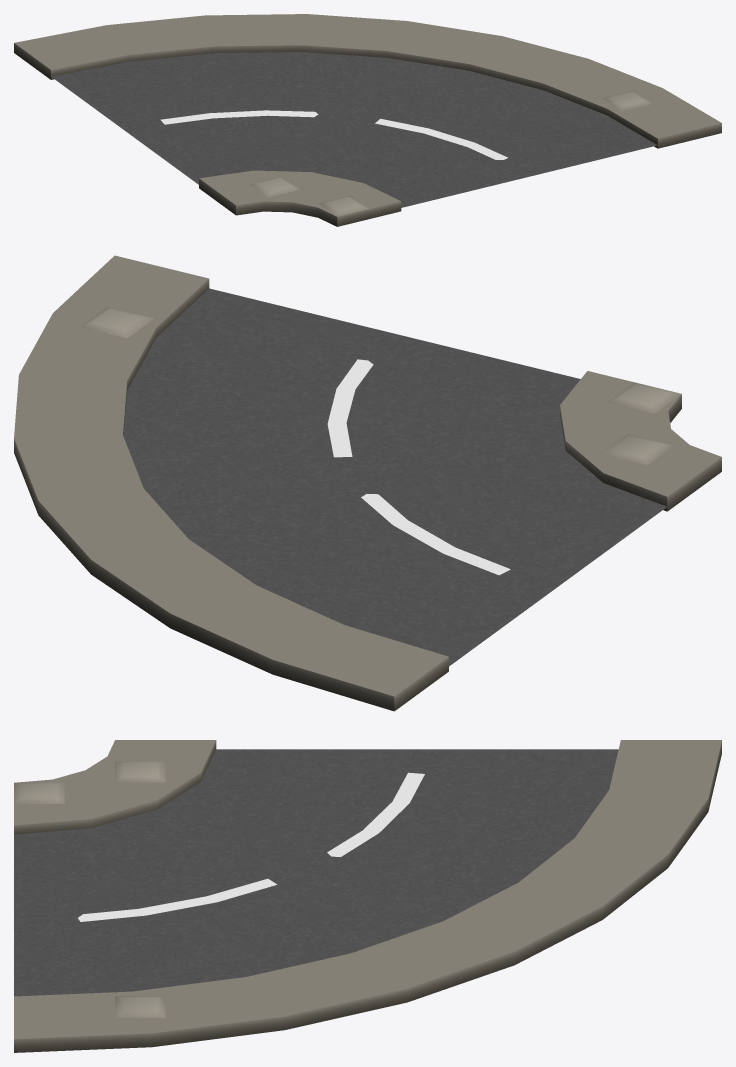
The model's file is Road3_without_line.fbx.
3 renders of one model, top to bottom at view 1: azimuth 30°, elevation 25°; view 2: azimuth 150°, elevation 25°; view 3: azimuth 270°, elevation 25°, orthographic. The views are drawn at different scales.
Visible parts, largest first — view 1: Road_1D003; view 2: Road_1D003; view 3: Road_1D003.
Boxes of the visible parts, bbox=[...] form: Road_1D003: bbox=[14, 14, 721, 226]; Road_1D003: bbox=[14, 255, 721, 711]; Road_1D003: bbox=[14, 740, 721, 1052].
Bounding box in the file's own units: 26161 × 666 × 26161.
